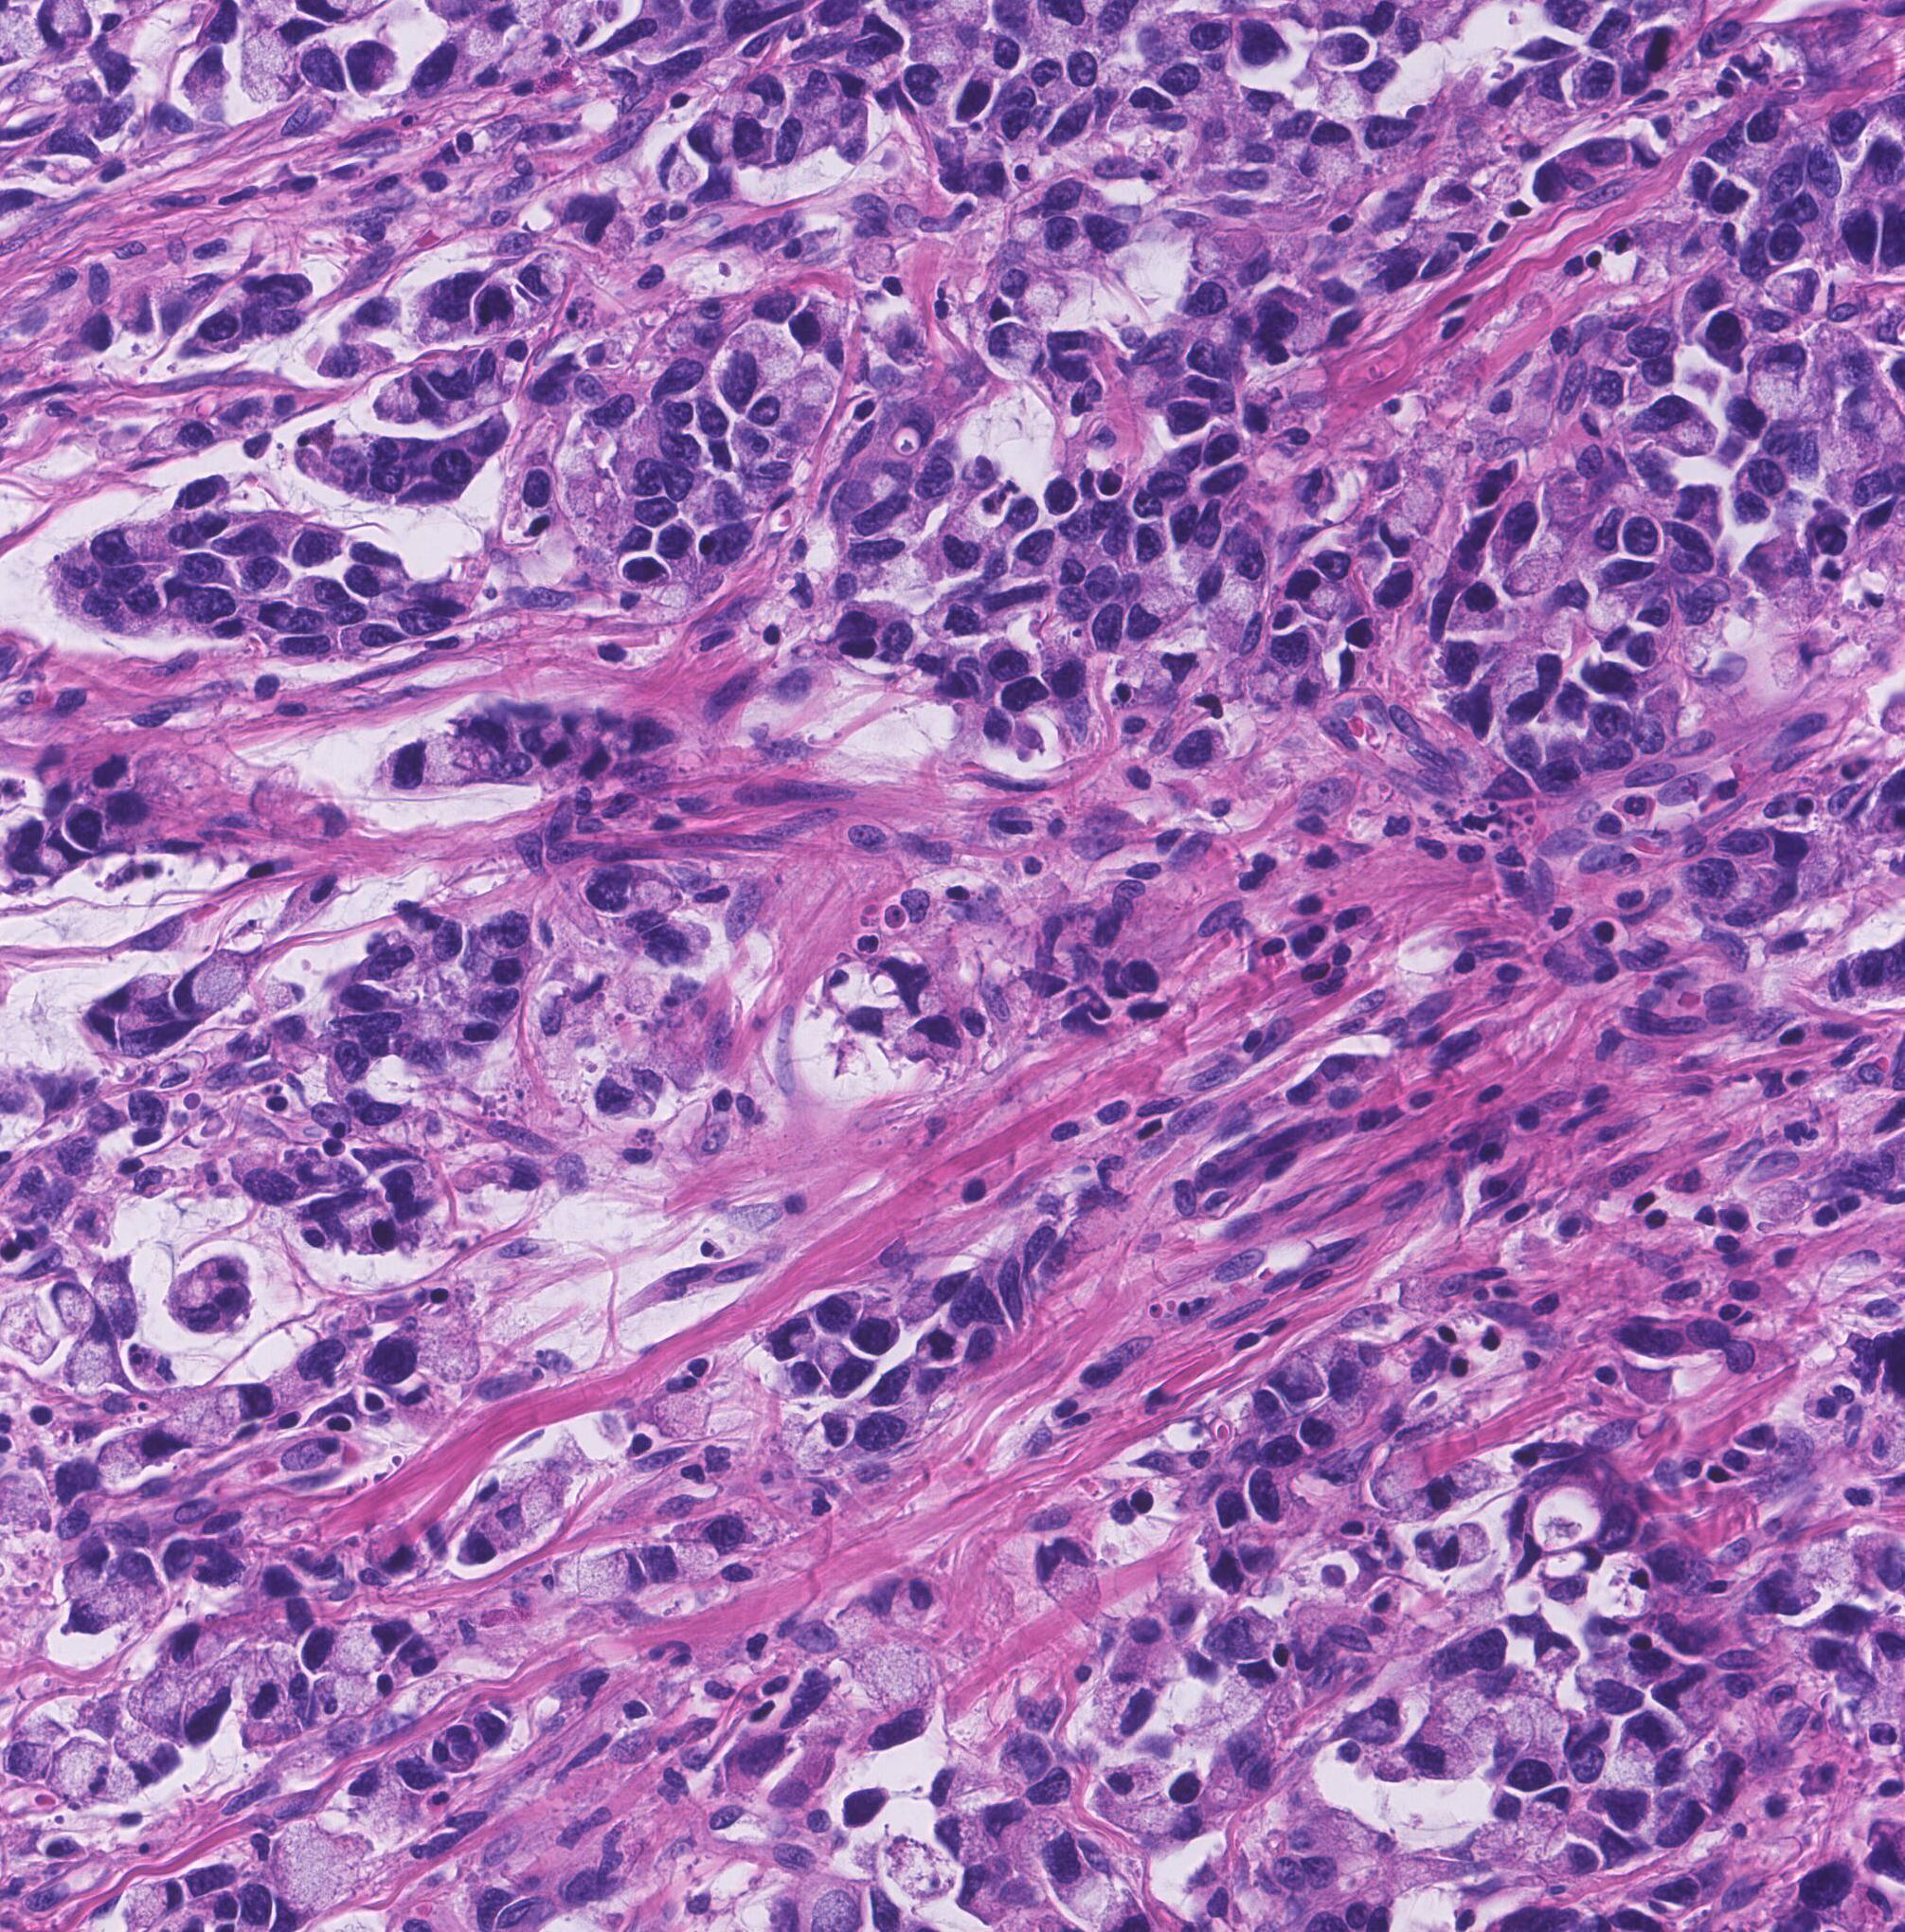ring_cell_cancer: (356, 1328, 488, 1387), (236, 23, 302, 106), (720, 330, 794, 401), (1635, 403, 1722, 462), (180, 951, 258, 1014), (747, 384, 836, 435), (897, 1014, 968, 1077), (1811, 323, 1879, 387), (1748, 342, 1809, 414), (977, 326, 1050, 384), (1535, 469, 1605, 527), (1028, 220, 1097, 277), (1404, 1730, 1481, 1780), (656, 1375, 714, 1442), (44, 1744, 110, 1801), (595, 864, 679, 909), (180, 1675, 234, 1745), (1499, 546, 1570, 599), (113, 1726, 176, 1785), (70, 1332, 127, 1396), (895, 1267, 965, 1319), (52, 1548, 126, 1597), (1123, 1798, 1202, 1843), (720, 1740, 790, 1791), (1326, 63, 1396, 113), (1059, 1202, 1125, 1255), (1214, 1604, 1275, 1660), (91, 1267, 140, 1337), (181, 45, 236, 108), (644, 921, 707, 976), (1284, 567, 1349, 620), (91, 527, 171, 569), (652, 515, 701, 583), (511, 251, 574, 304), (131, 1421, 208, 1463), (61, 1586, 134, 1630), (302, 1627, 372, 1672), (141, 422, 223, 461), (204, 1379, 279, 1421), (640, 1541, 712, 1585), (345, 42, 401, 98), (1390, 478, 1448, 532), (1167, 10, 1228, 61), (1581, 592, 1635, 647), (377, 745, 440, 792), (1317, 31, 1390, 72), (1453, 585, 1511, 635), (1096, 1152, 1146, 1209), (115, 1557, 164, 1616), (1532, 58, 1579, 119), (1617, 1707, 1671, 1759), (398, 1389, 454, 1440), (1340, 1702, 1404, 1745), (478, 1161, 551, 1199), (898, 1572, 940, 1639), (136, 1674, 183, 1731), (979, 639, 1036, 686), (593, 1070, 644, 1122), (461, 9, 516, 56), (288, 571, 351, 613), (890, 410, 946, 457), (42, 127, 106, 168), (450, 1522, 509, 1565), (490, 1494, 560, 1531), (171, 1625, 225, 1672), (850, 236, 897, 290), (1057, 1532, 1096, 1599), (1490, 1712, 1535, 1768), (590, 1550, 635, 1606), (279, 1435, 342, 1475), (761, 1361, 823, 1401), (1795, 627, 1846, 675), (818, 1342, 867, 1393), (323, 1677, 377, 1723), (1439, 1527, 1493, 1572), (49, 1279, 96, 1330), (954, 68, 996, 124), (340, 627, 406, 661), (815, 1288, 867, 1332), (1097, 1761, 1165, 1794), (328, 342, 393, 377), (502, 37, 563, 73), (311, 1101, 359, 1147), (1441, 1459, 1507, 1492), (740, 77, 789, 120), (1130, 595, 1171, 647), (1572, 1658, 1626, 1696), (1390, 1483, 1450, 1518), (3, 1737, 47, 1784), (1273, 1361, 1321, 1405), (244, 1663, 284, 1714), (729, 415, 769, 466), (687, 117, 731, 162), (82, 1693, 124, 1740), (1765, 276, 1816, 314), (1525, 1787, 1570, 1829), (91, 1004, 150, 1035), (255, 981, 311, 1014), (1108, 1646, 1151, 1686), (244, 557, 291, 593), (1034, 1541, 1064, 1597), (1533, 1637, 1579, 1672), (658, 148, 693, 194), (105, 976, 173, 998), (127, 1168, 176, 1199), (305, 803, 345, 838)
